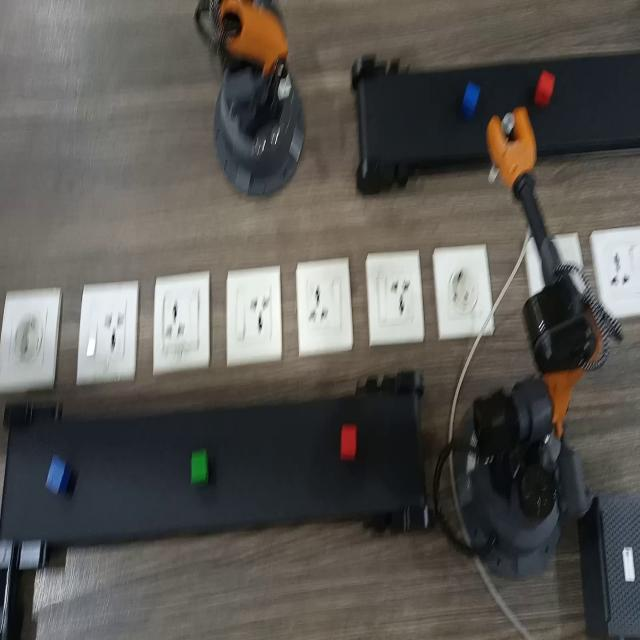cube: (337, 415, 362, 468), (533, 67, 563, 111), (46, 452, 75, 497), (190, 442, 216, 486), (463, 74, 483, 120)
